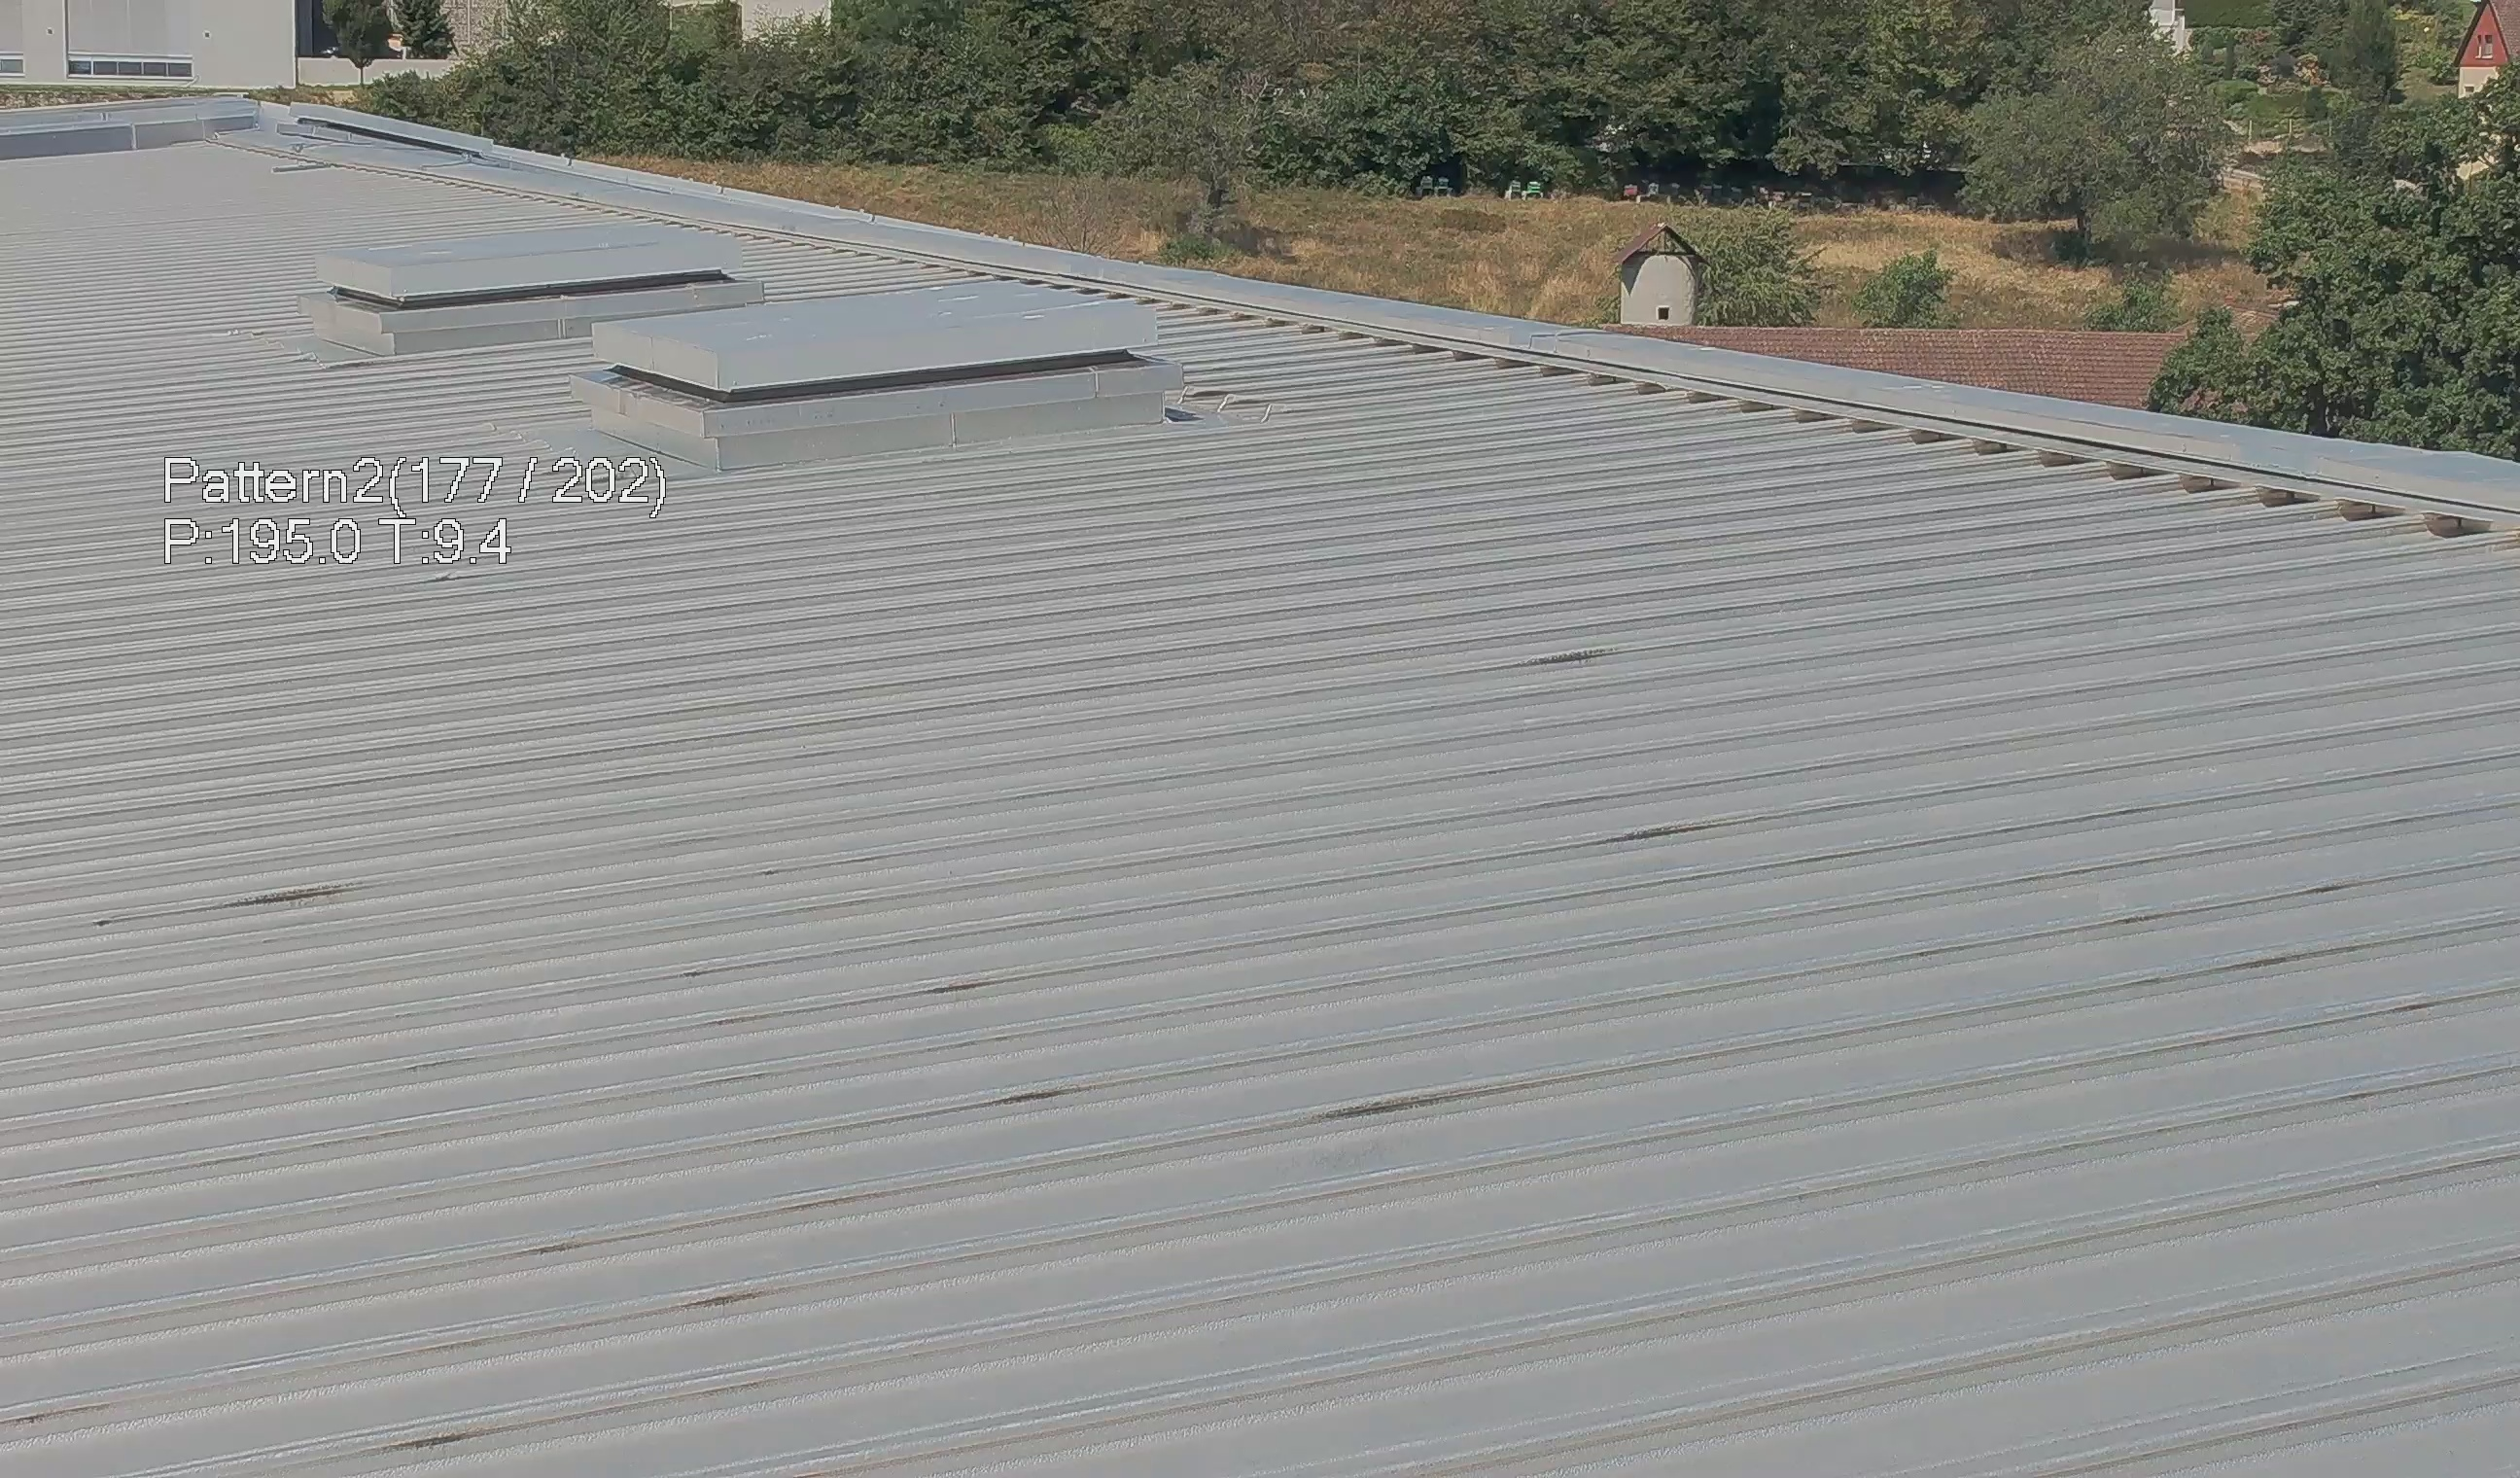Other: (1613, 201, 1720, 345)
